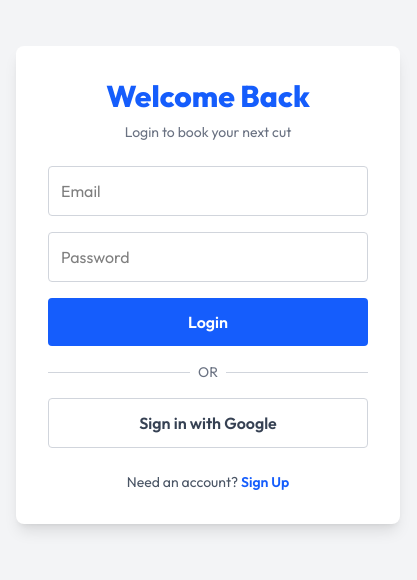
Test: Login page › shows other email login errors
Type "customer@example.com" into the field with placeholder "Email" at (208, 191), box [48,166,368,216]
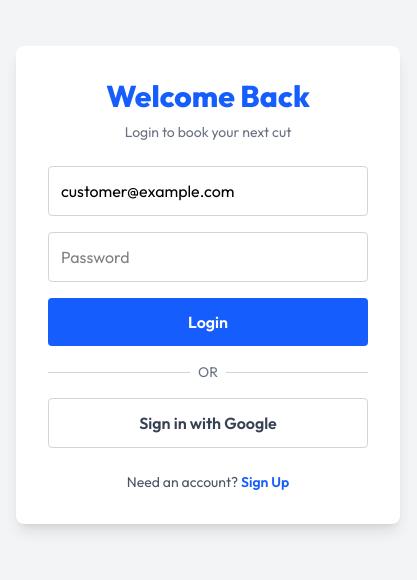
Type "secret123" into the password field with placeholder "Password" at (208, 257), box [48,232,368,282]
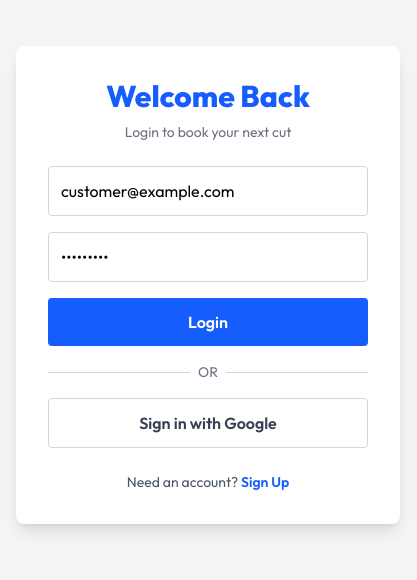
Click the button "Login" at (208, 322), box [48,298,368,346]
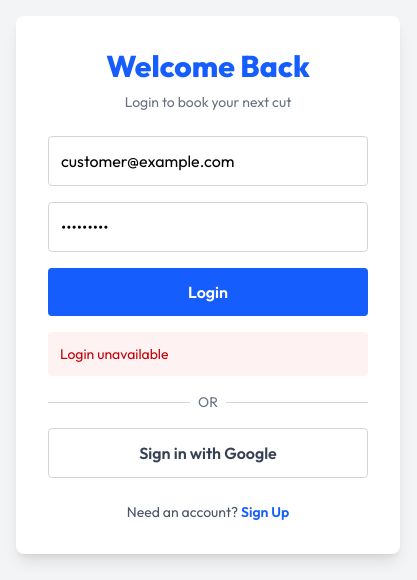
Now the message reads "Login unavailable", box [60,345,168,363]
